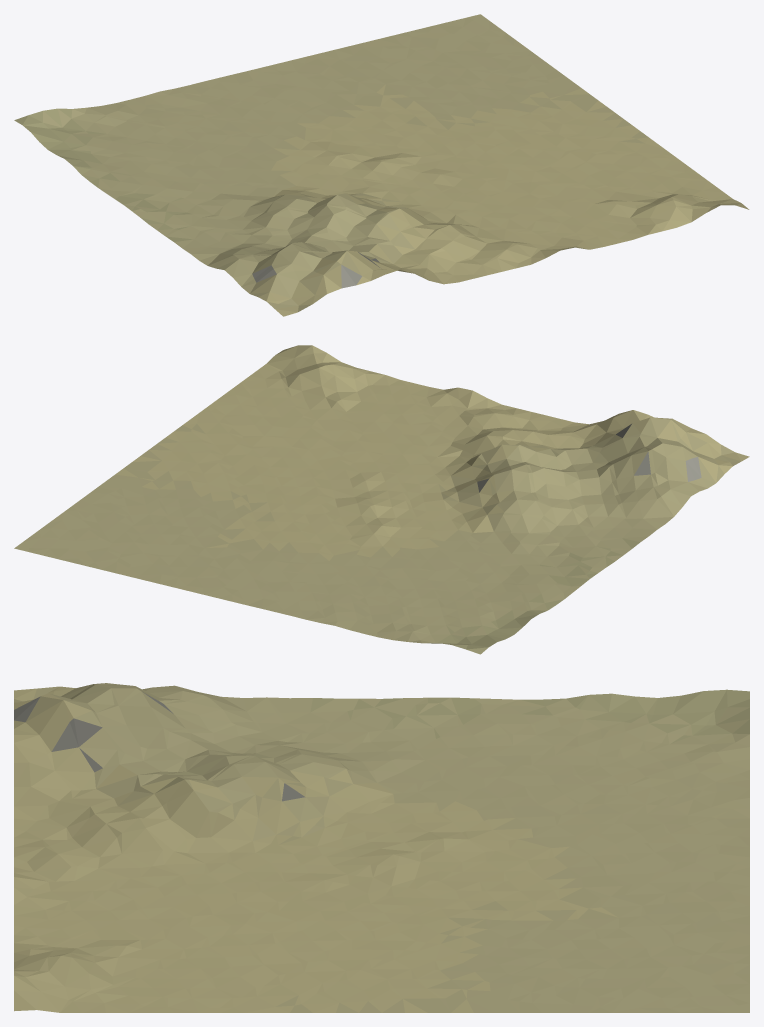
Rendered from Ground_2_-10.glb.
The picture shows the model from 3 angles, top to bottom: view 1: azimuth 30°, elevation 25°; view 2: azimuth 150°, elevation 25°; view 3: azimuth 270°, elevation 25°; orthographic projection. The views are drawn at different scales.
Parts seen in each view (by area): view 1: Ground_2_-10; view 2: Ground_2_-10; view 3: Ground_2_-10.
Boxes of the visible parts, x1,y1,x2,y2 form: Ground_2_-10: [14, 14, 749, 316]; Ground_2_-10: [14, 345, 749, 654]; Ground_2_-10: [14, 683, 749, 1012].
Size of the model in its own units: 768 by 64.74 by 768.
